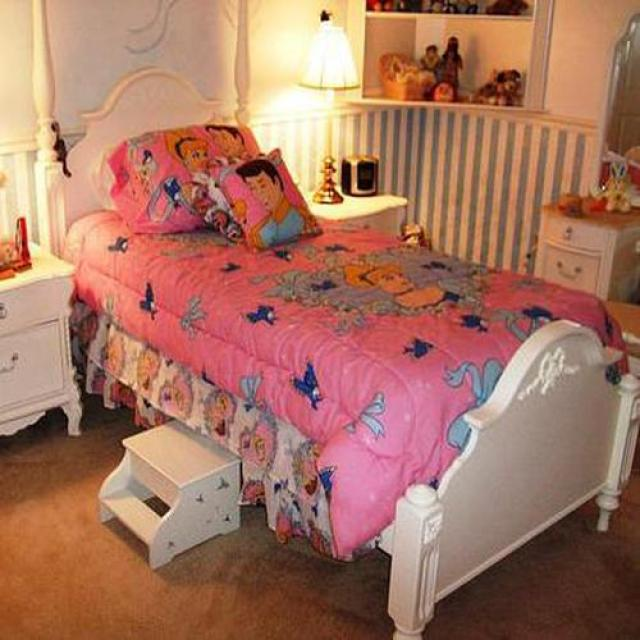bed: (63, 127, 640, 640)
